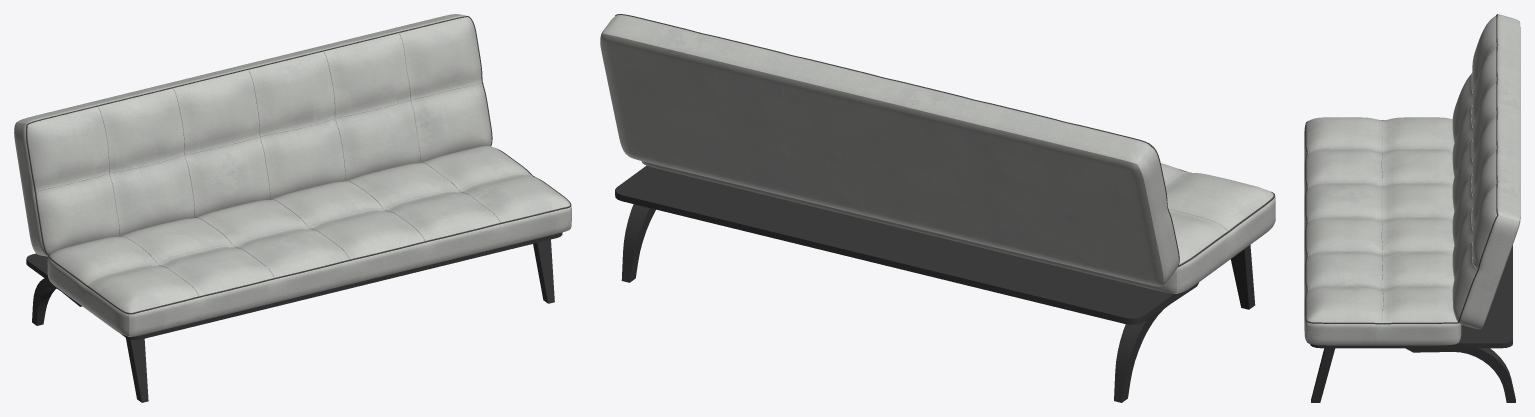
The model's file is sofa-2.gltf.
The picture shows the model from 3 angles, left to right: view 1: azimuth 30°, elevation 25°; view 2: azimuth 150°, elevation 25°; view 3: azimuth 270°, elevation 25°; orthographic projection. The views are drawn at different scales.
Parts seen in each view (by area): view 1: back cushio, main cushion, Sofa.001, riges strip, round strip; view 2: back cushio, Sofa.001, main cushion, round strip; view 3: main cushion, back cushio, Sofa.001, riges strip, round strip.
Part boxes in pixels (bbox=[...]): back cushio: bbox=[14, 14, 491, 256]; main cushion: bbox=[47, 146, 571, 336]; Sofa.001: bbox=[26, 232, 562, 402]; riges strip: bbox=[36, 32, 532, 296]; round strip: bbox=[26, 16, 571, 314]; back cushio: bbox=[600, 15, 1178, 286]; Sofa.001: bbox=[615, 165, 1255, 402]; main cushion: bbox=[641, 161, 1275, 293]; round strip: bbox=[615, 14, 1275, 266]; main cushion: bbox=[1304, 117, 1461, 345]; back cushio: bbox=[1452, 14, 1520, 329]; Sofa.001: bbox=[1310, 245, 1515, 402]; riges strip: bbox=[1307, 45, 1496, 322]; round strip: bbox=[1305, 14, 1498, 324].
Size of the model in its own units: 2.2 by 0.9815 by 0.9787.
